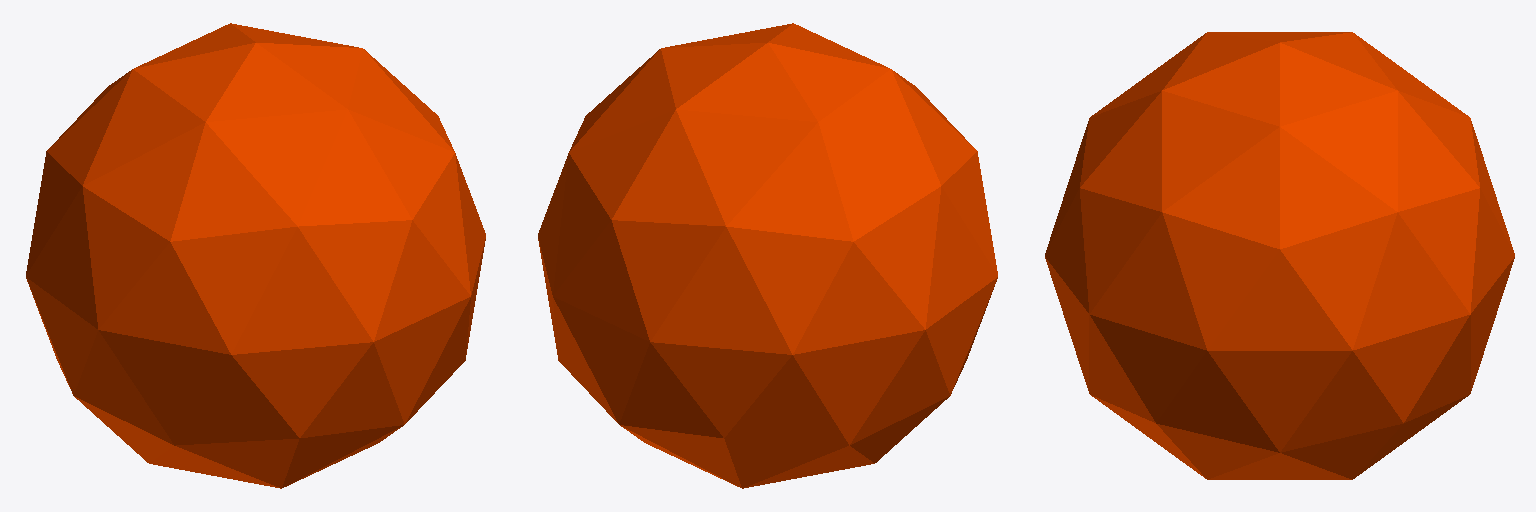
Rendered from icosfera.obj.
3 renders of one model, left to right at view 1: azimuth 30°, elevation 25°; view 2: azimuth 150°, elevation 25°; view 3: azimuth 270°, elevation 25°, orthographic.
Parts seen in each view (by area): view 1: Icosfera; view 2: Icosfera; view 3: Icosfera.
Part boxes in pixels (left/top/right/bottom): Icosfera: left=26, top=23, right=485, bottom=488; Icosfera: left=538, top=23, right=997, bottom=488; Icosfera: left=1045, top=32, right=1514, bottom=479.
Size of the model in its own units: 1.9 by 2 by 2.